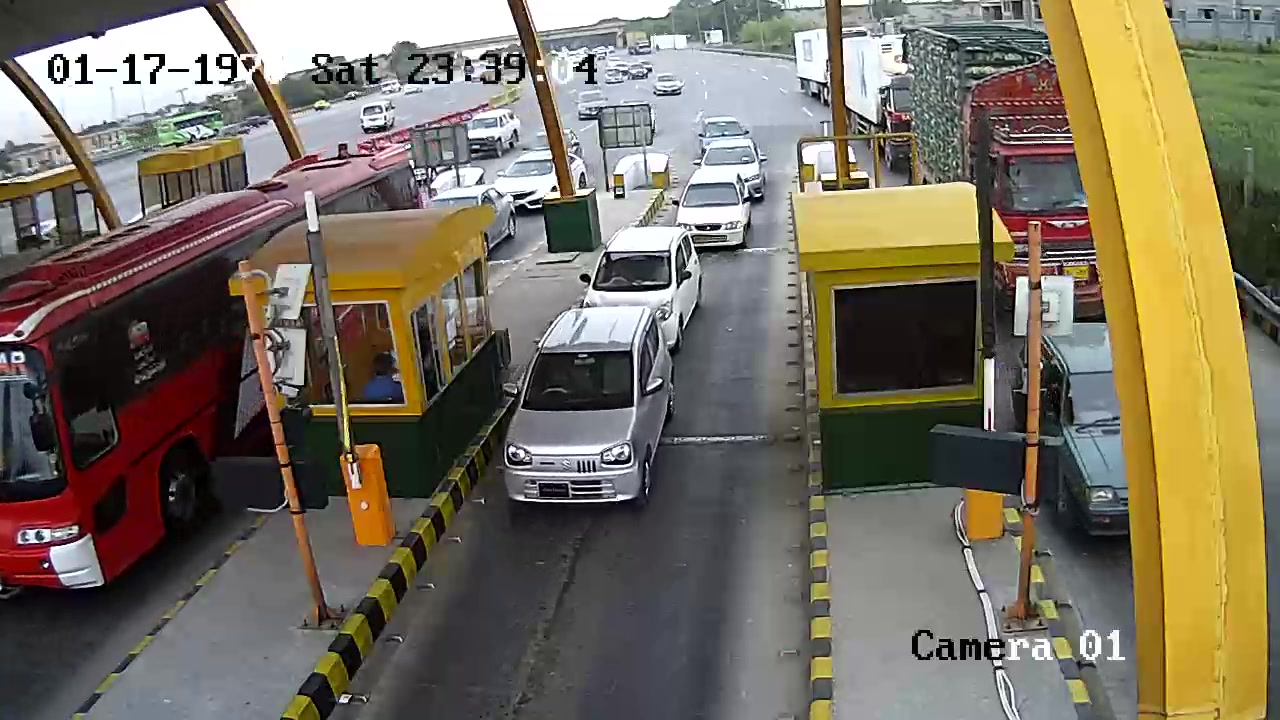F1: (492, 301, 688, 517)
